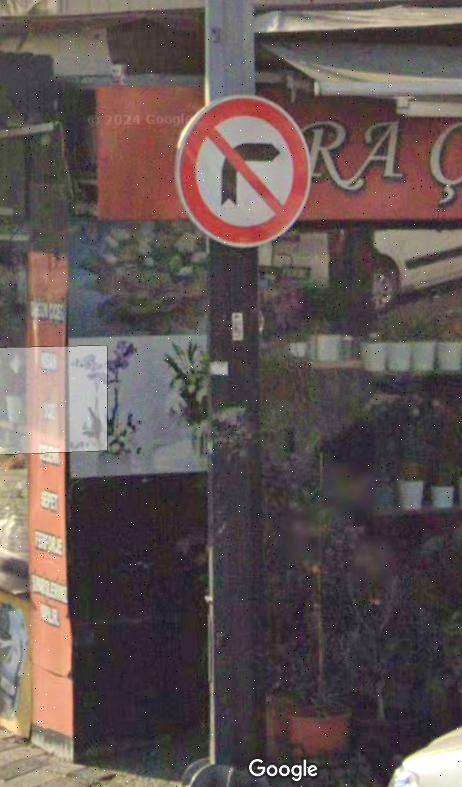rightturnsareforbidden: (181, 103, 306, 239)
